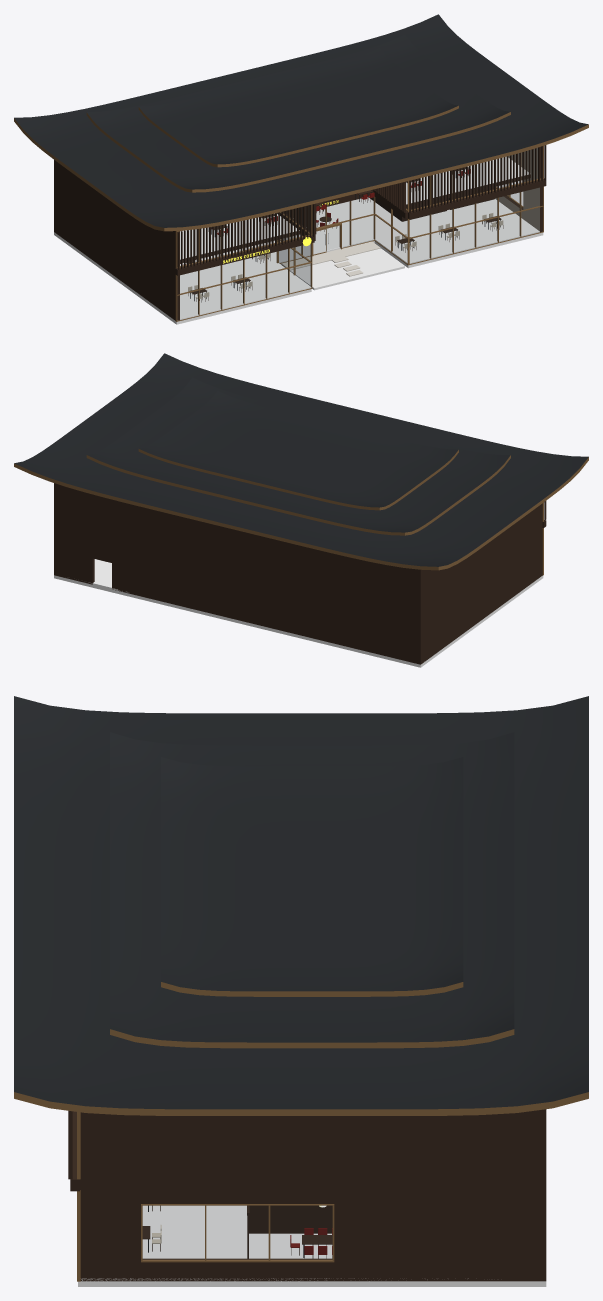
Rendered from saffron_courtyard_lod0.glb.
The picture shows the model from 3 angles, top to bottom: view 1: azimuth 30°, elevation 25°; view 2: azimuth 150°, elevation 25°; view 3: azimuth 270°, elevation 25°; orthographic projection. The views are drawn at different scales.
Visible parts, largest first — view 1: P09_LOD0_BUILDING_EXTERIOR_RoofPlates, P09_LOD0_BUILDING_EXTERIOR_Shell, P09_LOD0_BUILDING_INTERIOR_GroundSlab, P09_LOD0_GLASS_SYSTEM_GFGlass, P09_LOD0_FACADE_DETAILS_Timber, P09_LOD0_GLASS_SYSTEM_GFFrame, P09_LOD0_BUILDING_INTERIOR_Slabs, P09_LOD0_FURNITURE_Dining, P09_LOD0_GLASS_SYSTEM_L1Glass, P09_LOD0_GLASS_SYSTEM_L1Frame, P09_LOD0_BUILDING_INTERIOR_Screens; view 2: P09_LOD0_BUILDING_EXTERIOR_RoofPlates, P09_LOD0_BUILDING_EXTERIOR_Shell, P09_LOD0_BUILDING_INTERIOR_GroundSlab; view 3: P09_LOD0_BUILDING_EXTERIOR_RoofPlates, P09_LOD0_BUILDING_EXTERIOR_Shell, P09_LOD0_BUILDING_INTERIOR_GroundSlab, P09_LOD0_GLASS_SYSTEM_SideGlass, P09_LOD0_BUILDING_INTERIOR_Screens, P09_LOD0_GLASS_SYSTEM_SideFrame, P09_LOD0_FURNITURE_Dining.
Part boxes in pixels (bbox=[...]): P09_LOD0_BUILDING_EXTERIOR_RoofPlates: bbox=[14, 14, 588, 231]; P09_LOD0_BUILDING_EXTERIOR_Shell: bbox=[54, 146, 546, 320]; P09_LOD0_BUILDING_INTERIOR_GroundSlab: bbox=[54, 197, 543, 324]; P09_LOD0_GLASS_SYSTEM_GFGlass: bbox=[180, 188, 539, 318]; P09_LOD0_FACADE_DETAILS_Timber: bbox=[177, 145, 546, 269]; P09_LOD0_GLASS_SYSTEM_GFFrame: bbox=[175, 186, 543, 321]; P09_LOD0_BUILDING_INTERIOR_Slabs: bbox=[180, 156, 530, 263]; P09_LOD0_FURNITURE_Dining: bbox=[180, 167, 503, 302]; P09_LOD0_GLASS_SYSTEM_L1Glass: bbox=[180, 148, 537, 265]; P09_LOD0_GLASS_SYSTEM_L1Frame: bbox=[175, 146, 543, 268]; P09_LOD0_BUILDING_INTERIOR_Screens: bbox=[368, 187, 494, 221]; P09_LOD0_BUILDING_EXTERIOR_RoofPlates: bbox=[14, 353, 588, 570]; P09_LOD0_BUILDING_EXTERIOR_Shell: bbox=[54, 483, 546, 664]; P09_LOD0_BUILDING_INTERIOR_GroundSlab: bbox=[54, 559, 543, 667]; P09_LOD0_BUILDING_EXTERIOR_RoofPlates: bbox=[14, 696, 588, 1115]; P09_LOD0_BUILDING_EXTERIOR_Shell: bbox=[70, 1109, 546, 1281]; P09_LOD0_BUILDING_INTERIOR_GroundSlab: bbox=[78, 1205, 546, 1286]; P09_LOD0_GLASS_SYSTEM_SideGlass: bbox=[143, 1206, 331, 1259]; P09_LOD0_BUILDING_INTERIOR_Screens: bbox=[247, 1205, 332, 1258]; P09_LOD0_GLASS_SYSTEM_SideFrame: bbox=[141, 1204, 334, 1262]; P09_LOD0_FURNITURE_Dining: bbox=[142, 1205, 332, 1258].
Size of the model in its own units: 44 by 12.78 by 27.
